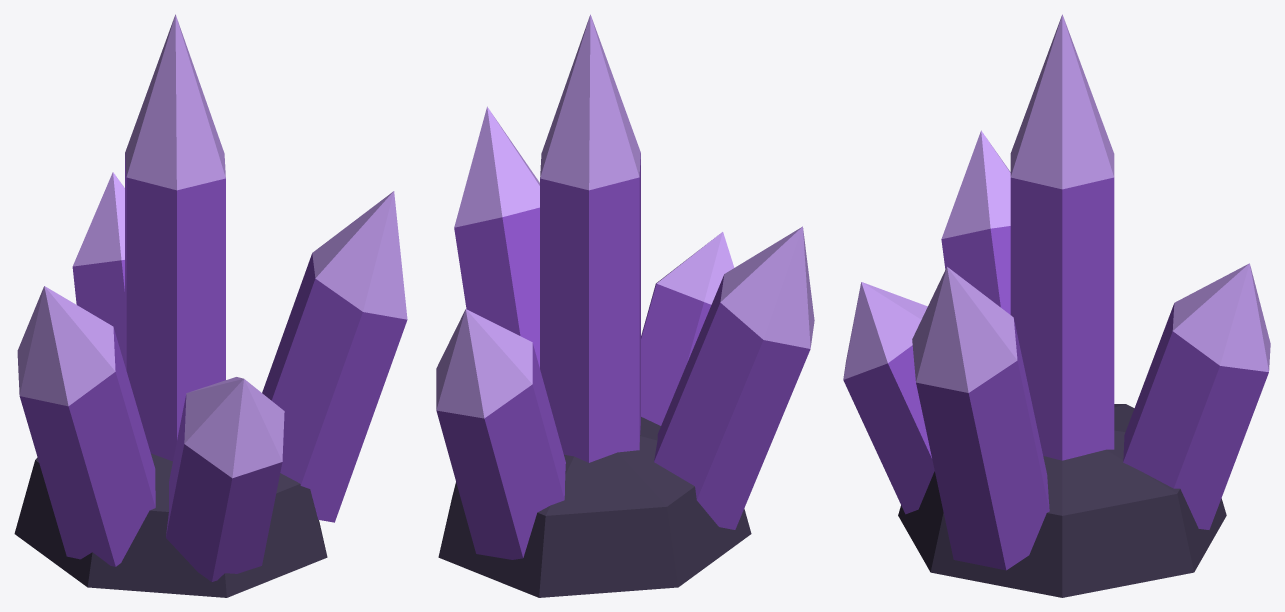
The model's file is env_r12_crystal_cluster_purple.glb.
3 views of the same model, side by side, from view 1: azimuth 30°, elevation 25°; view 2: azimuth 150°, elevation 25°; view 3: azimuth 270°, elevation 25° (orthographic).
Visible parts, largest first — view 1: env_r12_crystal_cluster_purple; view 2: env_r12_crystal_cluster_purple; view 3: env_r12_crystal_cluster_purple.
Part boxes in pixels (<box>): env_r12_crystal_cluster_purple: <box>14,14,407,597</box>; env_r12_crystal_cluster_purple: <box>436,14,814,597</box>; env_r12_crystal_cluster_purple: <box>843,14,1270,597</box>.
Bounding box in the file's own units: 1.8 × 2.4 × 1.8.
Materials: 1 (1 with a texture image).
